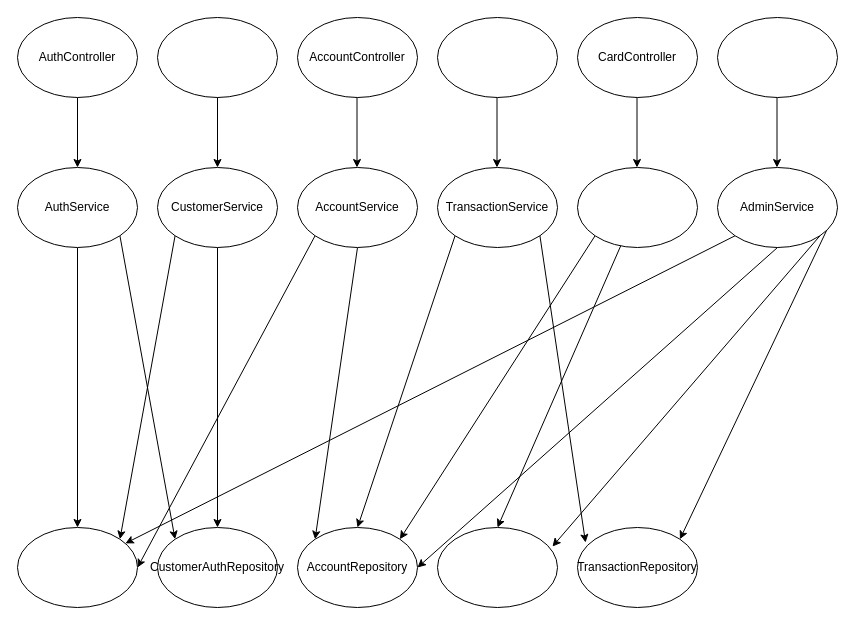
Some shapes in this 863 by 625 pixel diagram are drawn without their labels. Each missing label, with the box of its shape:
AdminController: (716, 16, 838, 98)
CardRepository: (436, 526, 558, 608)
CardService: (576, 166, 698, 248)
CustomerController: (156, 16, 278, 98)
CustomerRepository: (16, 526, 138, 608)
TransactionController: (436, 16, 558, 98)
